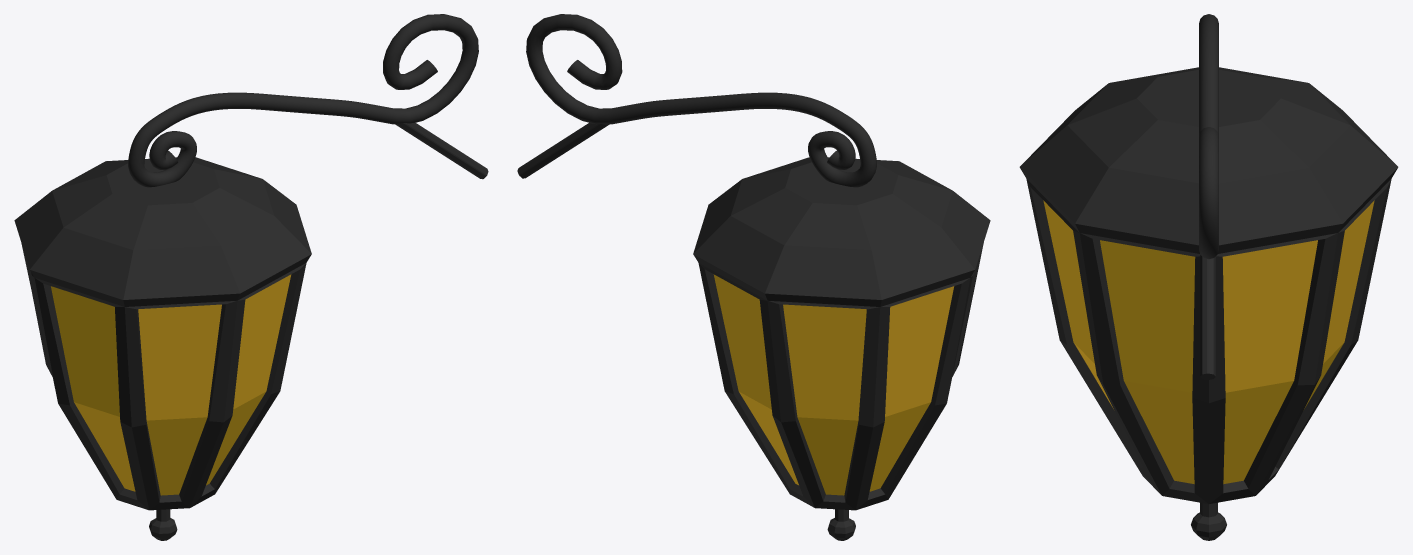
The model's file is Lamp.fbx.
3 views of the same model, side by side, from view 1: azimuth 30°, elevation 25°; view 2: azimuth 150°, elevation 25°; view 3: azimuth 270°, elevation 25° (orthographic). The views are drawn at different scales.
Parts seen in each view (by area): view 1: Lamp; view 2: Lamp; view 3: Lamp.
Boxes of the visible parts, x1,y1,x2,y2 form: Lamp: (14, 14, 488, 540); Lamp: (517, 14, 990, 540); Lamp: (1019, 14, 1398, 540).
Bounding box in the file's own units: 77.05 × 73.8 × 44.98.
